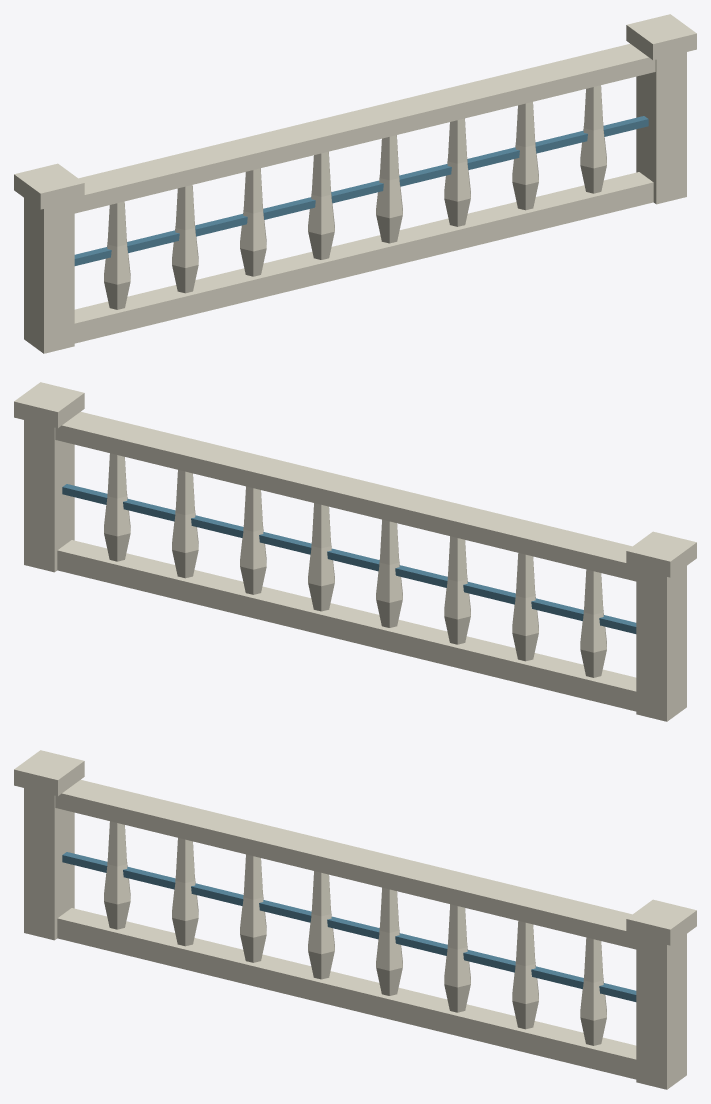
The model's file is KOL_HBR_PROP_04.fbx.
3 views of the same model, one above another, from view 1: azimuth 30°, elevation 25°; view 2: azimuth 150°, elevation 25°; view 3: azimuth 330°, elevation 25° (orthographic).
Parts seen in each view (by area): view 1: KOL_HBR_PROP_04__Model__White, KOL_HBR_PROP_04__Model__Blue; view 2: KOL_HBR_PROP_04__Model__White, KOL_HBR_PROP_04__Model__Blue; view 3: KOL_HBR_PROP_04__Model__White, KOL_HBR_PROP_04__Model__Blue.
Boxes of the visible parts, bbox=[...] form: KOL_HBR_PROP_04__Model__White: bbox=[14, 14, 696, 353]; KOL_HBR_PROP_04__Model__Blue: bbox=[74, 116, 648, 265]; KOL_HBR_PROP_04__Model__White: bbox=[14, 382, 696, 721]; KOL_HBR_PROP_04__Model__Blue: bbox=[62, 484, 636, 633]; KOL_HBR_PROP_04__Model__White: bbox=[14, 750, 696, 1089]; KOL_HBR_PROP_04__Model__Blue: bbox=[62, 852, 636, 1001].
Size of the model in its own units: 17.15 by 4.1 by 1.2.
